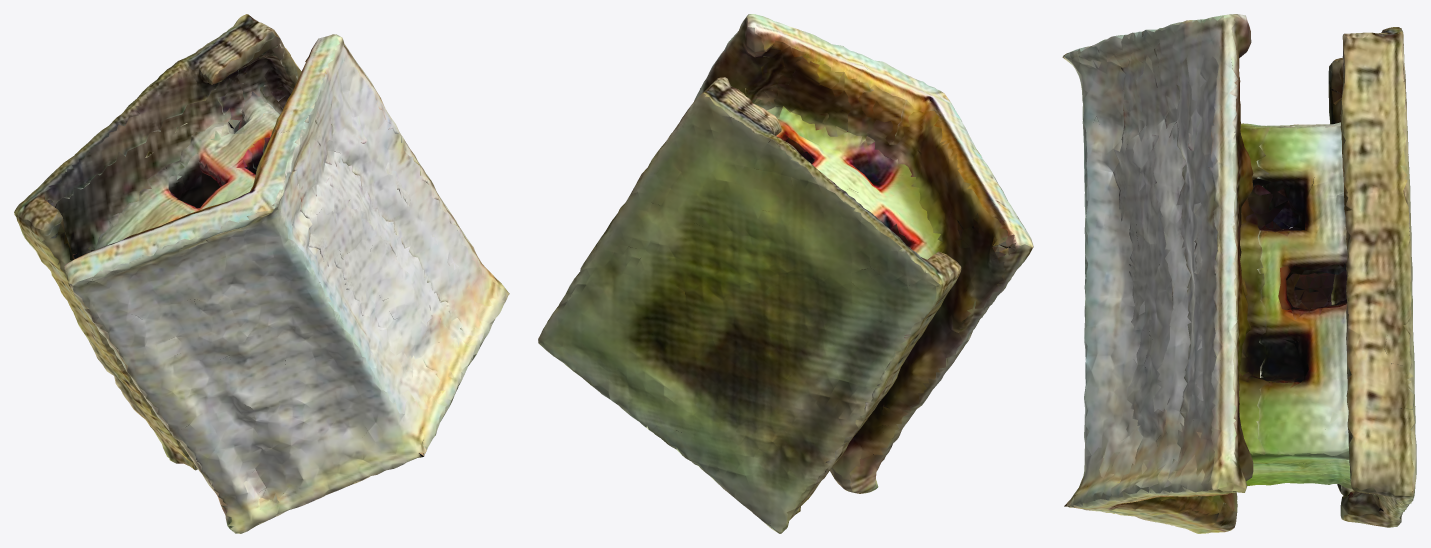
The model's file is house2.glb.
3 views of the same model, side by side, from view 1: azimuth 30°, elevation 25°; view 2: azimuth 150°, elevation 25°; view 3: azimuth 270°, elevation 25° (orthographic). The views are drawn at different scales.
Parts seen in each view (by area): view 1: world.210; view 2: world.210; view 3: world.210.
Part boxes in pixels (left/top/right/bottom): world.210: left=14, top=14, right=509, bottom=533; world.210: left=538, top=14, right=1033, bottom=533; world.210: left=1062, top=14, right=1416, bottom=533.
Size of the model in its own units: 1.05 by 1.04 by 0.574.
Materials: 1 (1 with a texture image).
